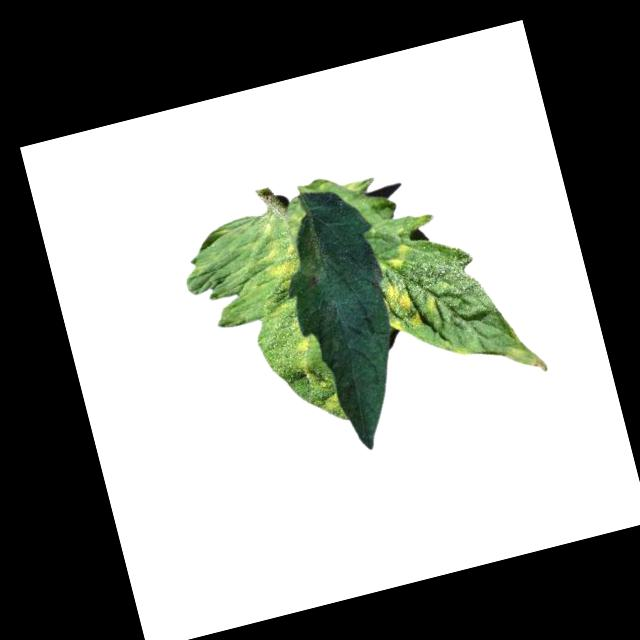Leaf_Mold: (380, 276, 443, 336), (258, 240, 305, 280), (382, 240, 416, 275)
